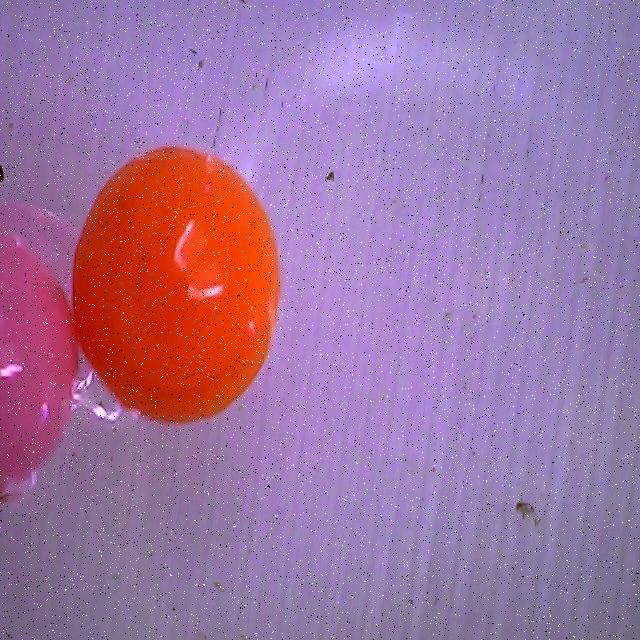beads: (71, 145, 281, 424), (0, 227, 78, 498)
